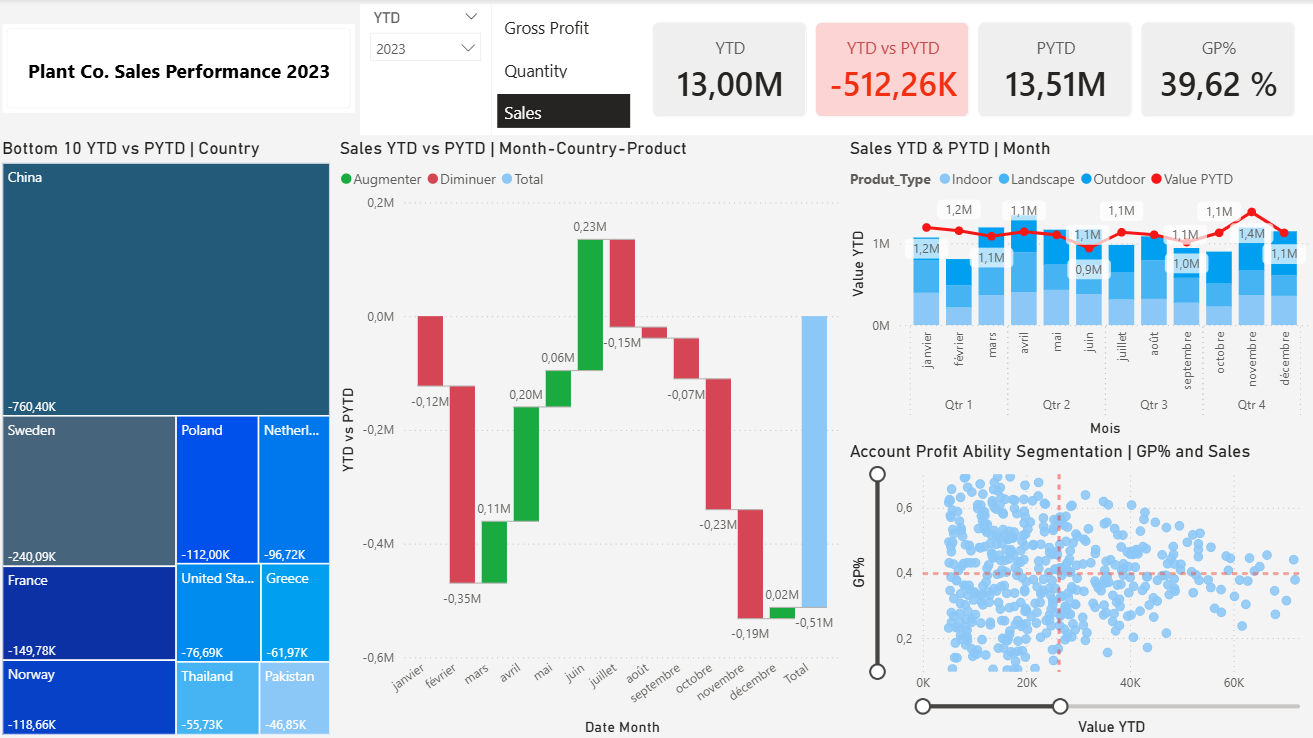

The page's visual inventory and layout, read from the dashboard file:
{"tool":"powerbi","page":{"name":"Page 1","canvas":[1280,720],"ordinal":0},"visuals":[{"type":"cardVisual","fields":{"Data":["_Measures.S_YTD","_Measures.YTD vs PYTD","_Measures.S_PYTD","_Measures.GP%"]},"box":[619.3,6.1,660.2,127.2],"z":0},{"type":"slicer","fields":{"Values":["Dim_Date.Date.Variation.Hiérarchie de dates.Année"]},"box":[352.8,6.1,127.2,127.2],"z":1000},{"type":"treemap","title":"Bottom 10 YTD vs PYTD | Country","fields":{"Values":["_Measures.YTD vs PYTD"],"Group":["Dim_Account.country"]},"box":[0,135.5,327.5,584.1],"z":2000},{"type":"waterfallChart","fields":{"Y":["_Measures.YTD vs PYTD"],"Category":["Dim_Date.Date.Variation.Hiérarchie de dates.Mois","Dim_Account.country","Dim_Product.Produt_Type","Dim_Product.Product_Name"]},"box":[327.5,135.5,495.3,584.1],"z":3000},{"type":"lineStackedColumnComboChart","fields":{"Category":["Dim_Date.Date.Variation.Hiérarchie de dates.Trimestre","Dim_Date.Date.Variation.Hiérarchie de dates.Mois"],"Y":["_Measures.S_YTD"],"Y2":["_Measures.S_PYTD"],"Series":["Dim_Product.Produt_Type"]},"box":[822.9,135.5,456.6,293.6],"z":4000},{"type":"advancedSlicerVisual","fields":{"Values":["Slc_Values.Values"]},"box":[480,6.1,139.3,127.2],"z":5000},{"type":"scatterChart","fields":{"Category":["Dim_Account.Account"],"X":["_Measures.S_YTD"],"Y":["_Measures.GP%"]},"box":[823,430,457,290],"z":6000},{"type":"cardVisual","fields":{"Data":["_Measures._Report title"]},"box":[0,0,352.8,136.3],"z":6001}]}

Visuals, with their boxes in screenshot pixels (x1, y1, x2, y2), scaled from the page's 1280x720 canvas onto the 1313x738 screenshot:
cardVisual - _Measures.S_YTD x _Measures.YTD vs PYTD: [635, 6, 1312, 137]
slicer - Dim_Date.Date.Variation.Hiérarchie de dates.Année: [362, 6, 492, 137]
"Bottom 10 YTD vs PYTD | Country" treemap: [0, 139, 336, 737]
waterfallChart - _Measures.YTD vs PYTD x Dim_Date.Date.Variation.Hiérarchie de dates.Mois: [336, 139, 844, 737]
lineStackedColumnComboChart - Dim_Date.Date.Variation.Hiérarchie de dates.Trimestre x Dim_Date.Date.Variation.Hiérarchie de dates.Mois: [844, 139, 1312, 440]
advancedSlicerVisual - Slc_Values.Values: [492, 6, 635, 137]
scatterChart - Dim_Account.Account x _Measures.S_YTD: [844, 441, 1312, 737]
cardVisual - _Measures._Report title: [0, 0, 362, 140]
